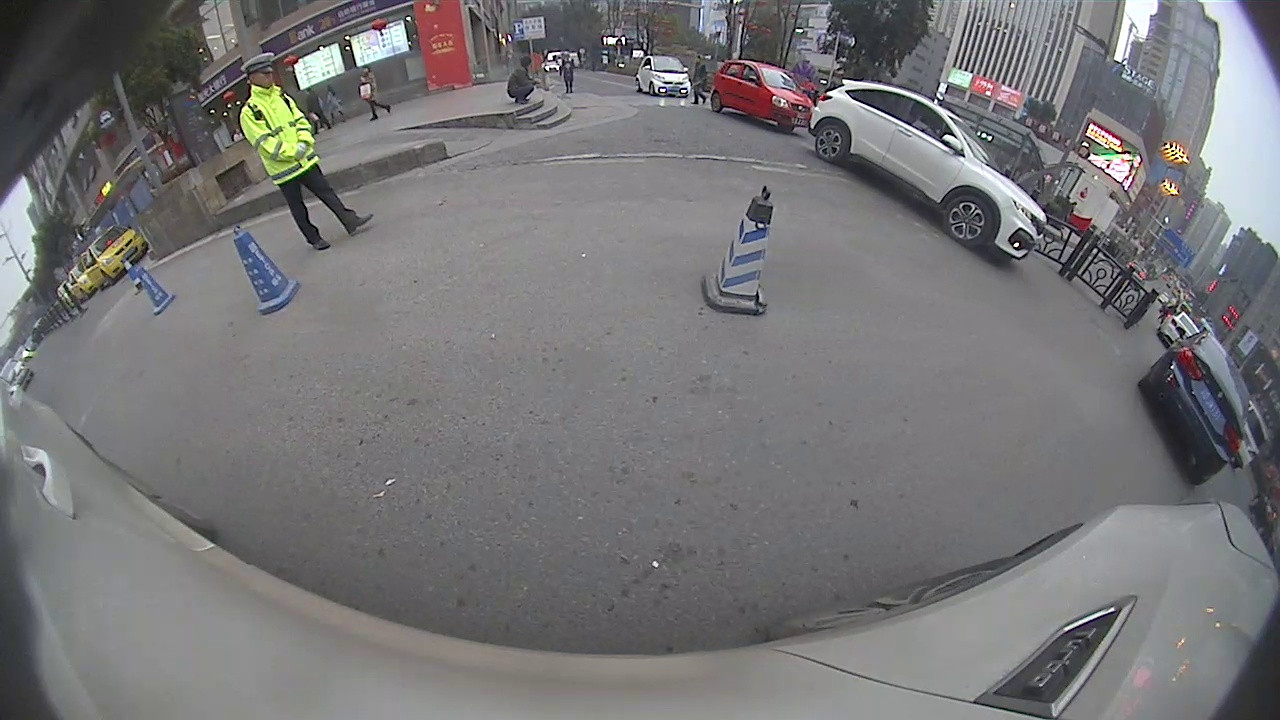car: (808, 76, 1047, 262), (1136, 328, 1253, 485), (709, 61, 816, 133), (83, 223, 148, 289), (633, 57, 690, 98)
front: (939, 191, 996, 249), (100, 270, 115, 288), (647, 82, 655, 96)
person: (240, 51, 375, 251), (504, 58, 537, 103)
rear: (813, 122, 850, 162), (709, 93, 722, 112), (634, 79, 642, 91)
